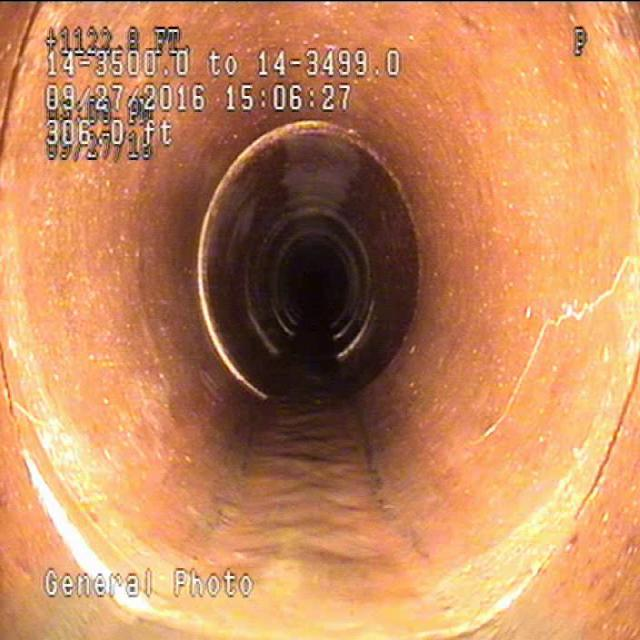Crack: (492, 218, 618, 433)
